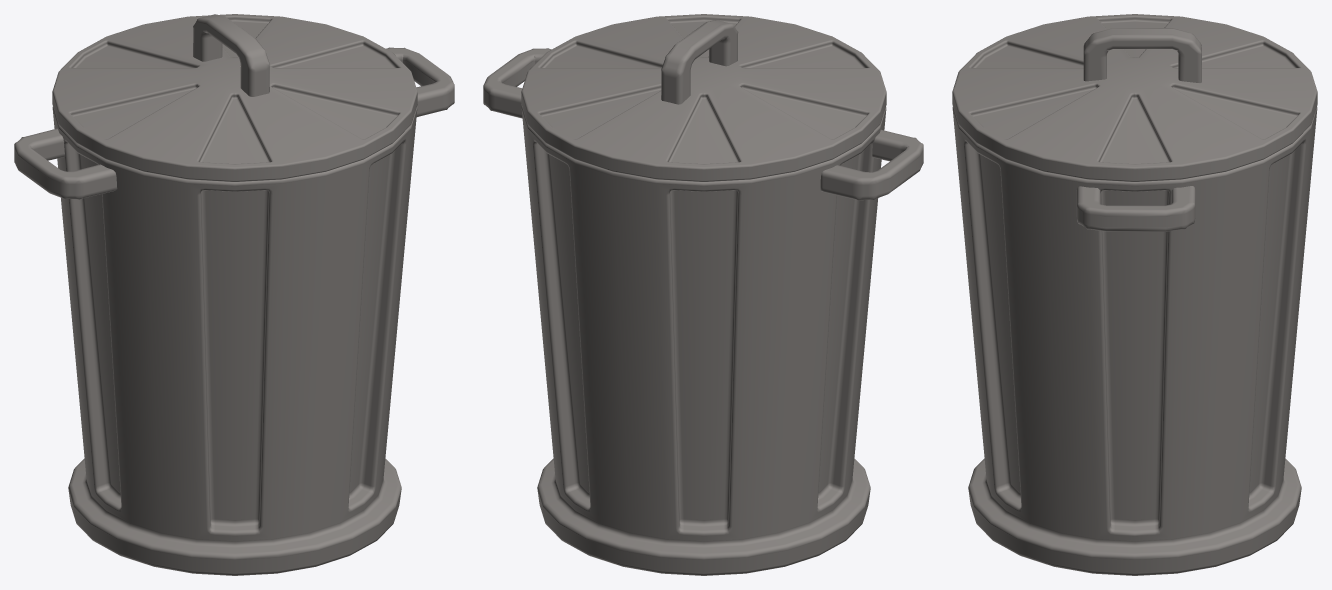
The model's file is SM_Eimer_01.fbx.
The picture shows the model from 3 angles, left to right: view 1: azimuth 30°, elevation 25°; view 2: azimuth 150°, elevation 25°; view 3: azimuth 270°, elevation 25°; orthographic projection.
Parts seen in each view (by area): view 1: Eimer_01.001; view 2: Eimer_01.001; view 3: Eimer_01.001.
Part boxes in pixels (x1=…): Eimer_01.001: x1=14, y1=14, x2=454, y2=575; Eimer_01.001: x1=483, y1=14, x2=923, y2=575; Eimer_01.001: x1=952, y1=14, x2=1317, y2=575.
Size of the model in its own units: 116 by 131 by 91.4.
